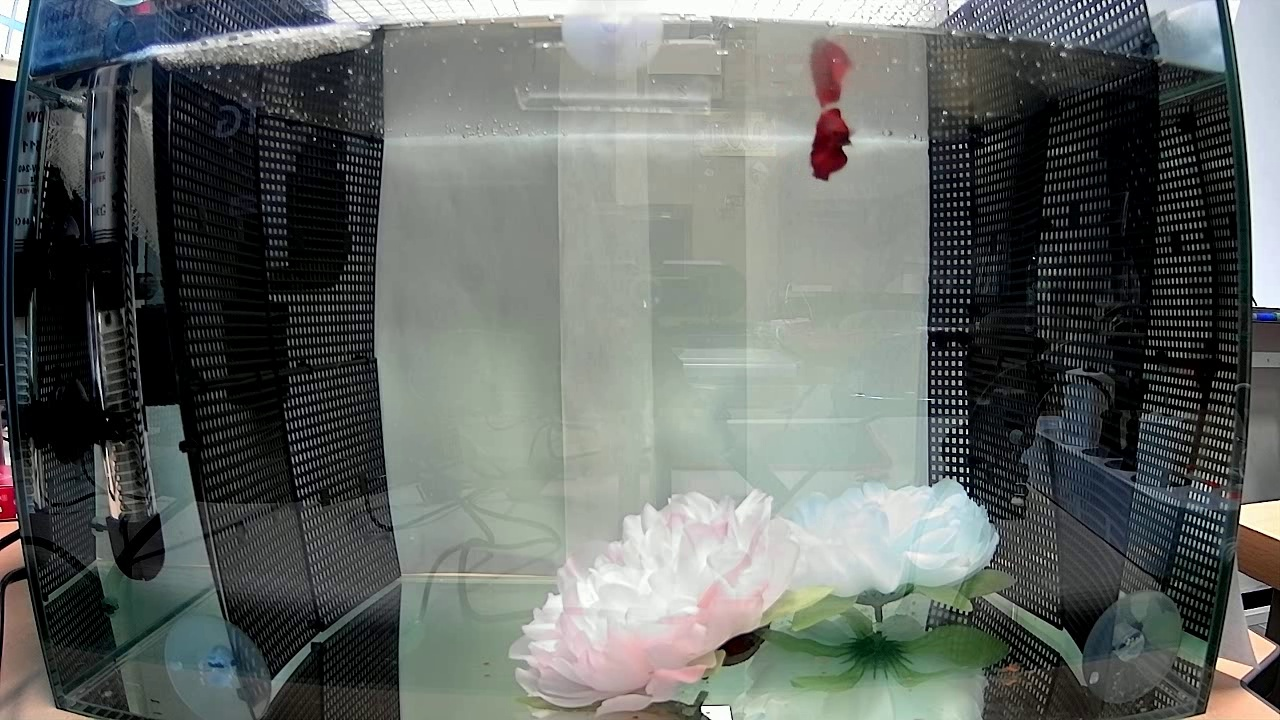fish: (796, 100, 862, 188)
